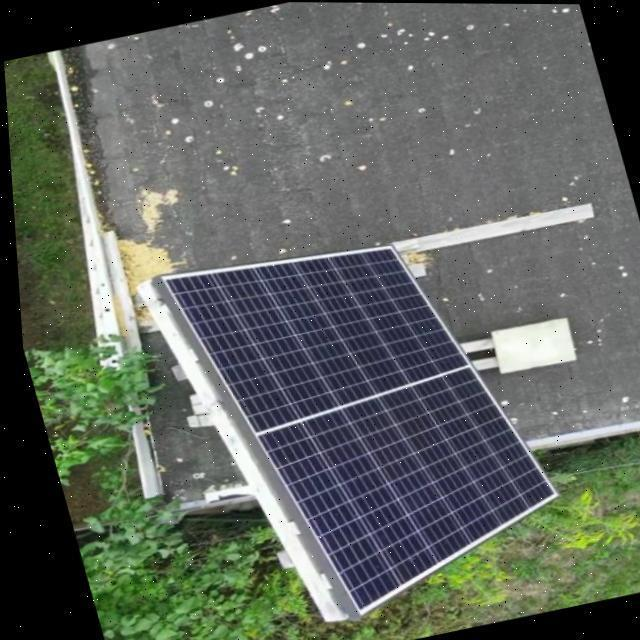Normal Solar Panel: (154, 209, 570, 633)
